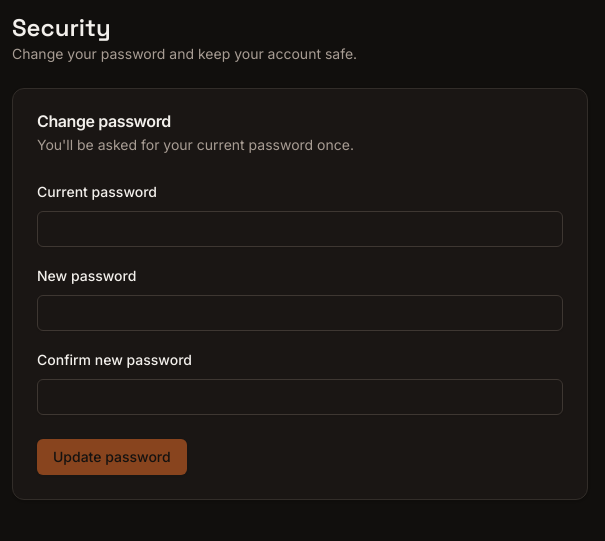
Scenario: SecurityPage › blocks submit when new password is too short or confirm mismatches
Expected: the button "Update password" is disabled, [37,439,187,475]
In the password field labelled "Current password": (300, 229) [37,211,563,247], type "oldpassword"
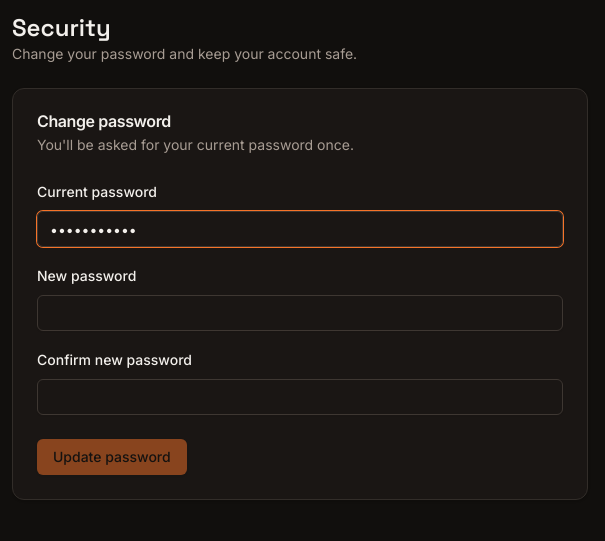
In the password field labelled "New password": (300, 313) [37,295,563,331], type "short"
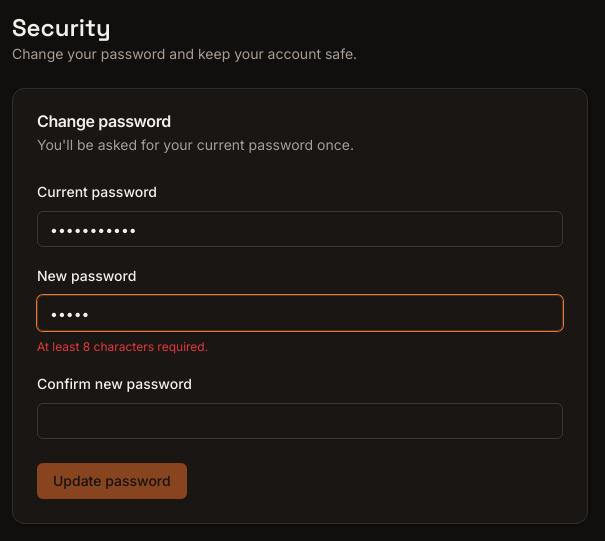
Expected: the button "Update password" is disabled, [37,463,187,499]
Result: the text "At least 8 characters required." is shown at [37,339,208,354]
In the password field labelled "New password": (300, 313) [37,295,563,331], type "newpassword9"
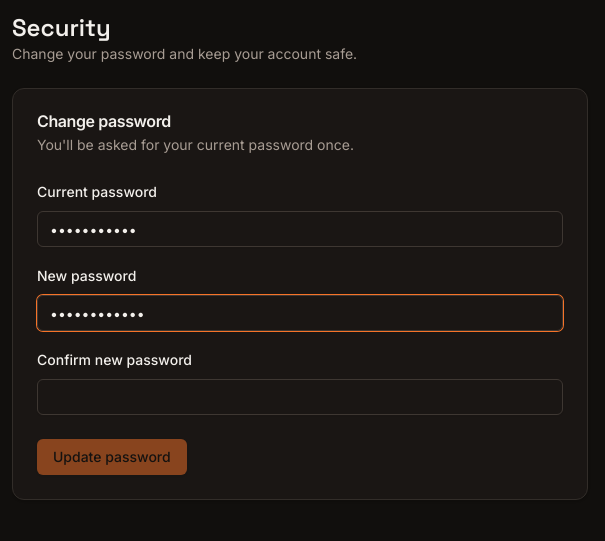
In the password field labelled "Confirm new password": (300, 397) [37,379,563,415], type "different1"
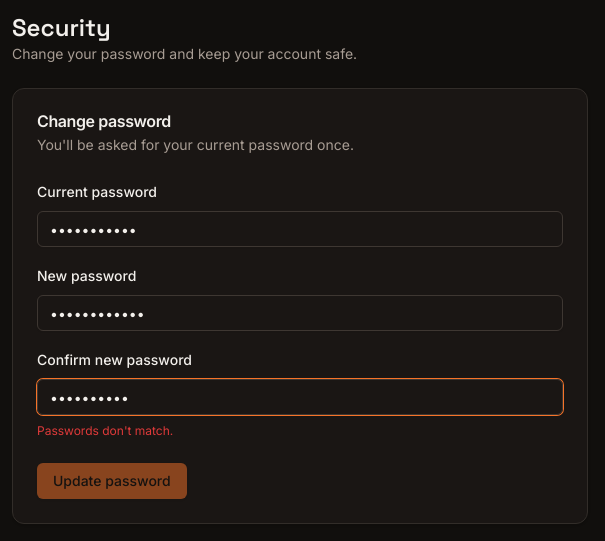
Expected: the button "Update password" is disabled, [37,463,187,499]
Result: the text "Passwords don't match." is shown at [37,423,173,438]
In the password field labelled "Confirm new password": (300, 397) [37,379,563,415], type "newpassword9"
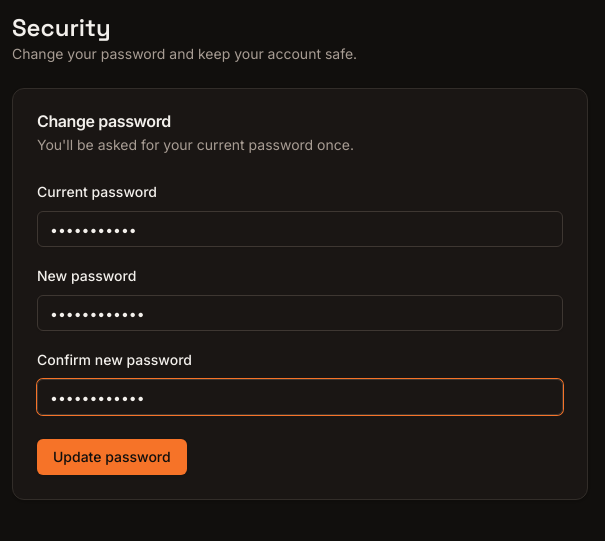
Result: the button "Update password" is enabled at [37,439,187,475]
